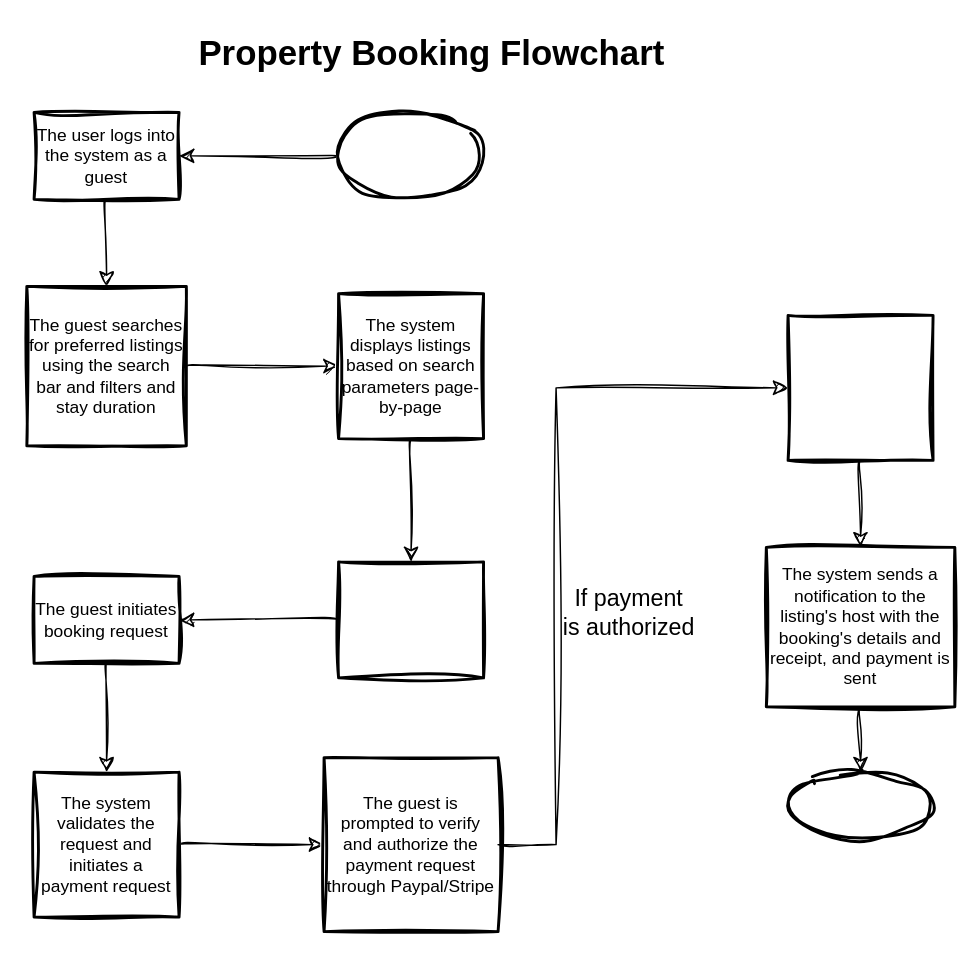
Some shapes in this 980 by 957 pixel diagram are drawn without their labels. The centre of each missing label's shape, as x and y in pixels:
"End" belongs at pixel 860 804.
"Start" belongs at pixel 410 155.
"The guest receives a booking notification and payment receipt" belongs at pixel 860 387.
"The guest selects a specific listing from the displayed list" belongs at pixel 410 619.
